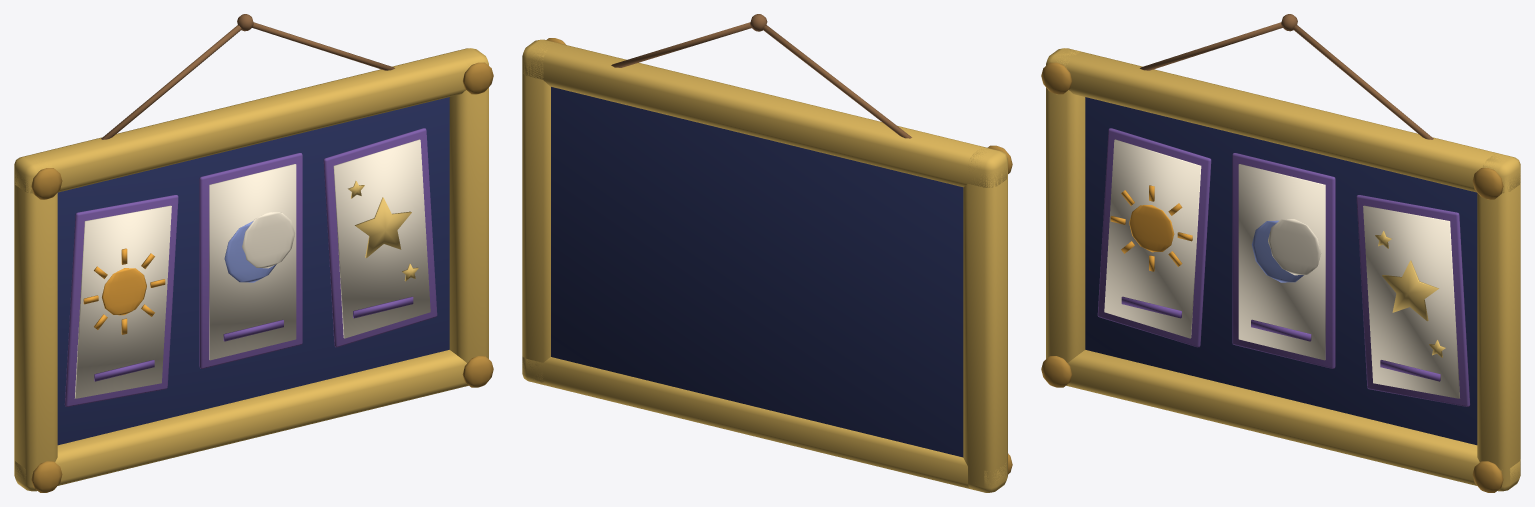
The model's file is tarot-frame.glb.
3 renders of one model, left to right at view 1: azimuth 30°, elevation 25°; view 2: azimuth 150°, elevation 25°; view 3: azimuth 330°, elevation 25°, orthographic. The views are drawn at different scales.
Visible parts, largest first — view 1: frame; view 2: frame; view 3: frame.
Part boxes in pixels (box(x1,y1,x2,y2)): frame: box(14, 14, 493, 492); frame: box(522, 14, 1012, 492); frame: box(1041, 14, 1520, 492).
Bounding box in the file's own units: 0.86 × 0.734 × 0.081.
